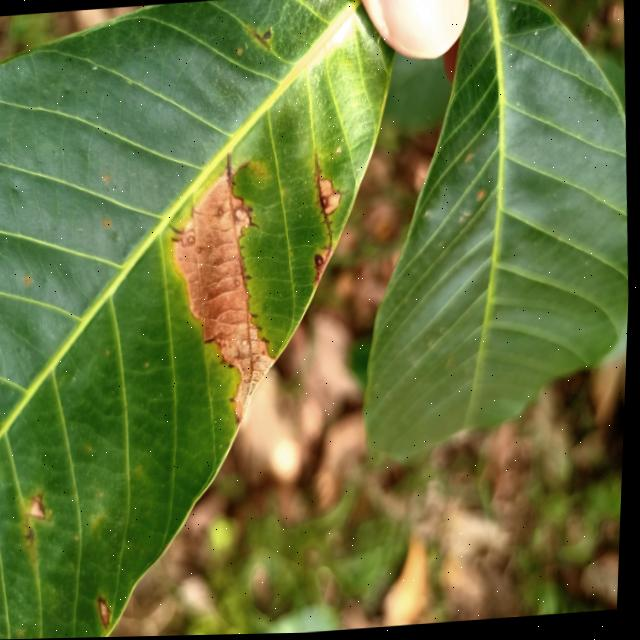Colletotrichum: (316, 257, 325, 268), (189, 236, 196, 245), (236, 281, 242, 289), (197, 248, 203, 254)
Corynespora: (308, 151, 338, 248)
Leaf-Blight: (168, 173, 286, 428), (319, 181, 342, 218), (314, 252, 336, 285)
